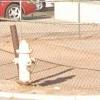a fire hydrant: (12, 39, 38, 84)
